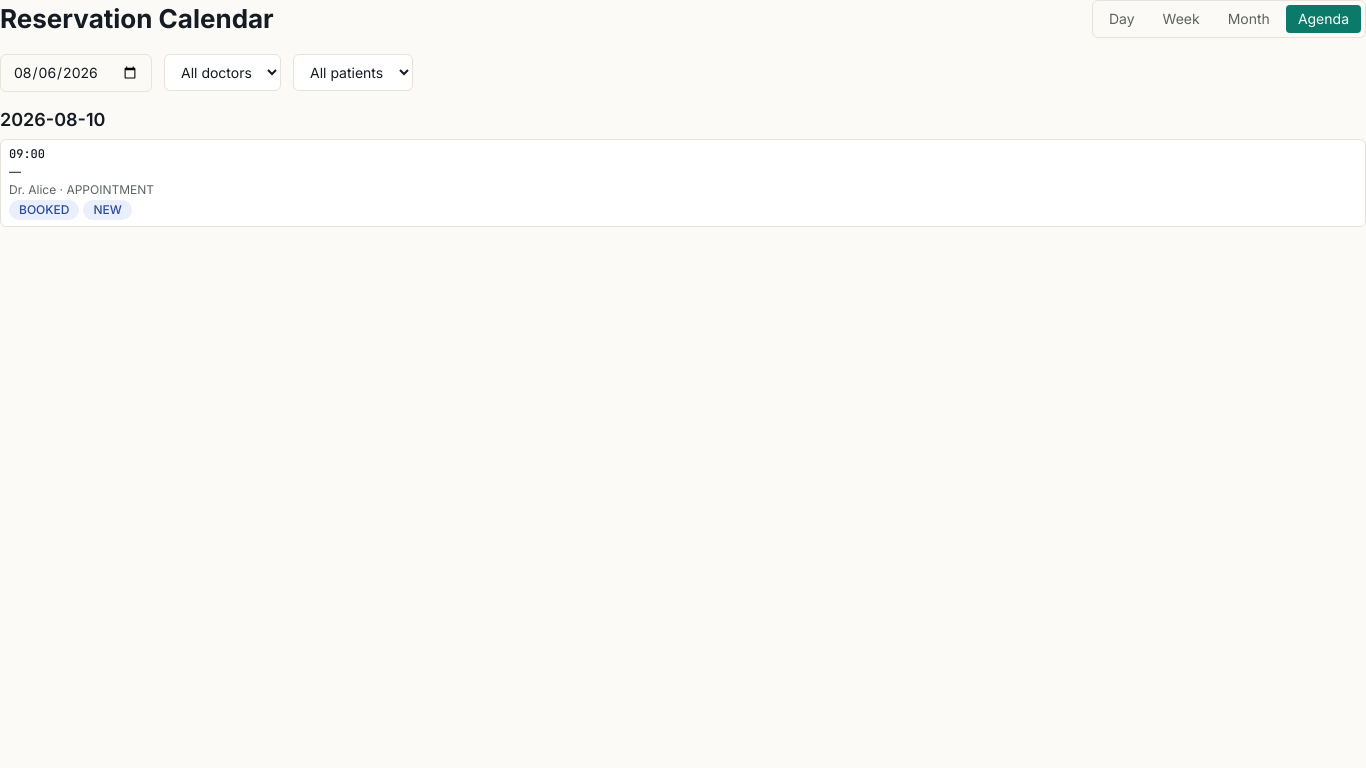
Test: ReservationCalendarPage › opens the Reservation Detail modal with the correct reservation's data when an entry is clicked
Click the text "09:00" at (27, 154), box [9,146,45,162]
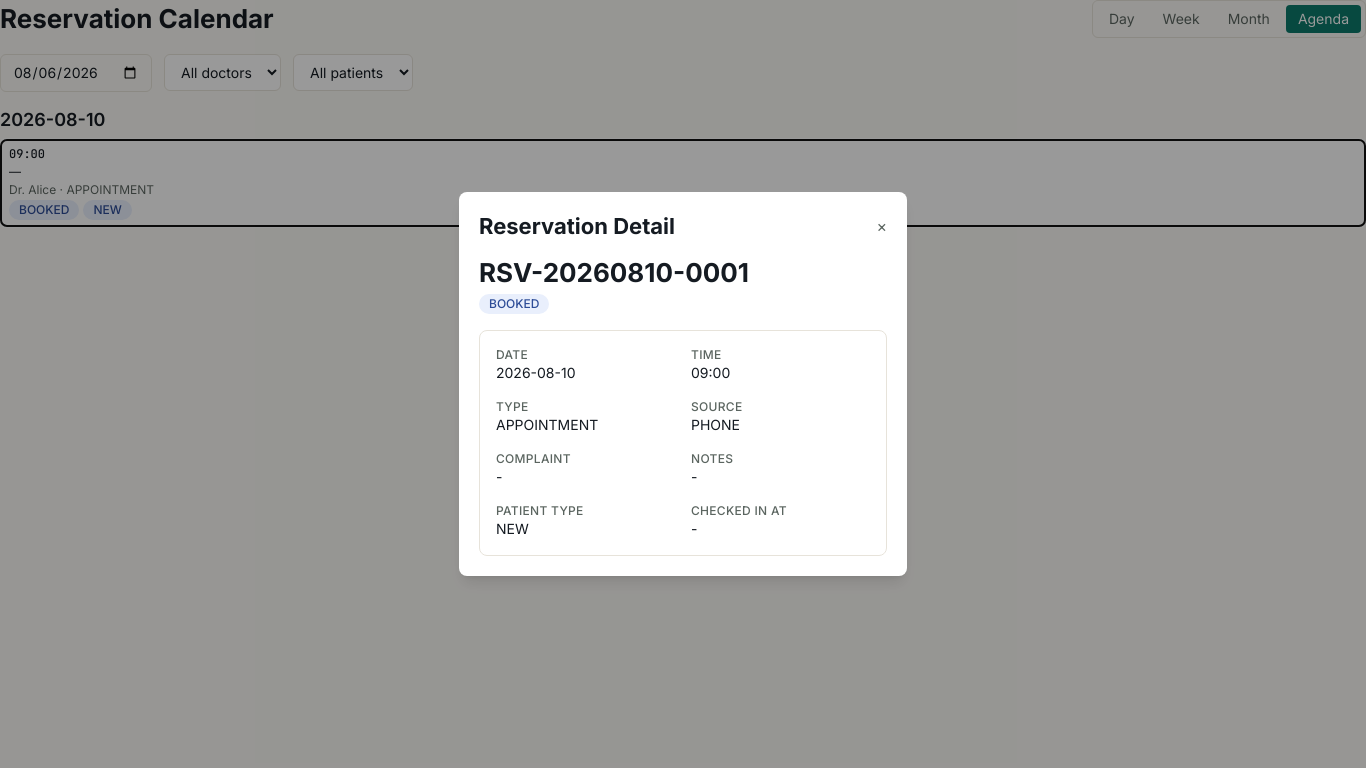
Result: the dialog shows "RSV-20260810-0001" at [479,257,749,288]
